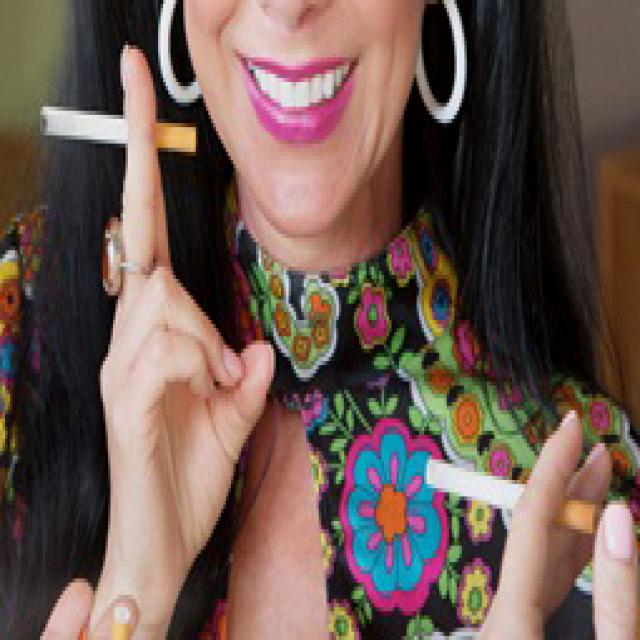cigarette: (38, 105, 127, 152)
